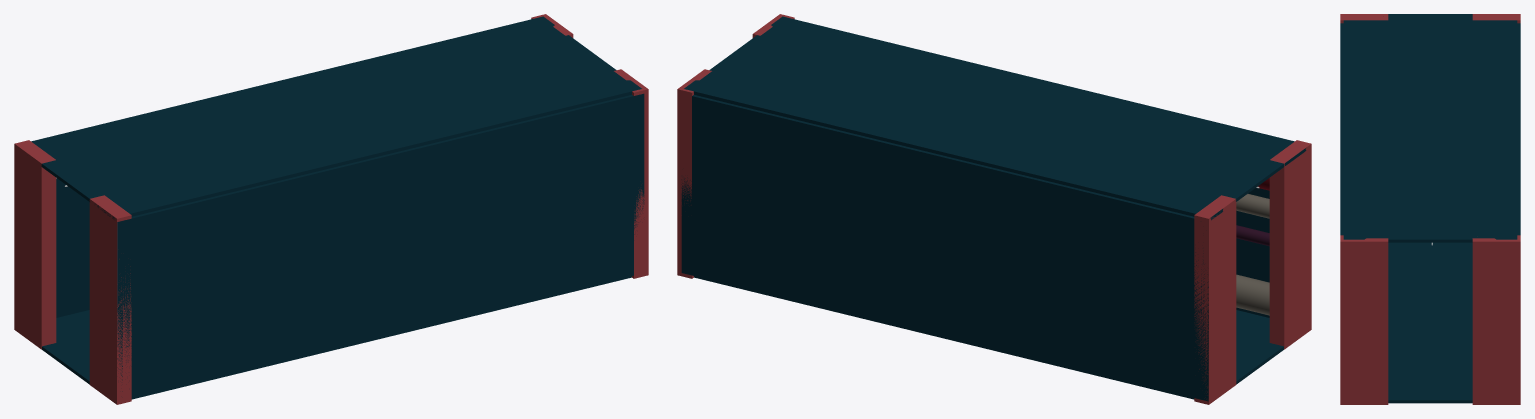
3 views of the same model, side by side, from view 1: azimuth 30°, elevation 25°; view 2: azimuth 150°, elevation 25°; view 3: azimuth 270°, elevation 25° (orthographic). The views are drawn at different scales.
Parts seen in each view (by area): view 1: Cube, Cube.002, Cube.006, Cube.007, Cube.003, Cube.001, Cube.004; view 2: Cube.003, Cube.002, Cube.007, Cube.006, Cube.001, Cube.005, Cube, Cylinder, Cylinder.001; view 3: Cube.002, Cube.001, Cube.004, Cube.005, Cube, Cube.003, Cube.007, Cube.006.
Boxes of the visible parts, x1,y1,x2,y2 form: Cube: (117,93,644,397); Cube.002: (31,16,641,219); Cube.006: (14,140,56,349); Cube.007: (89,195,131,404); Cube.003: (56,178,89,317); Cube.001: (42,276,631,399); Cube.004: (614,69,648,278); Cube.003: (681,95,1208,401); Cube.002: (684,16,1306,220); Cube.007: (1269,140,1311,349); Cube.006: (1194,195,1236,404); Cube.001: (694,276,1283,399); Cube.005: (677,69,711,278); Cube: (1236,188,1269,317); Cylinder: (1236,274,1269,315); Cylinder.001: (1236,194,1269,218); Cube.002: (1343,14,1517,242); Cube.001: (1388,242,1472,403); Cube.004: (1340,235,1388,404); Cube.005: (1472,235,1520,404); Cube: (1340,23,1343,235); Cube.003: (1517,23,1520,235); Cube.007: (1340,14,1388,23); Cube.006: (1472,14,1520,23).
Bounding box in the file's own units: 1905 × 638 × 638.
Materials: 1 (1 with a texture image).
